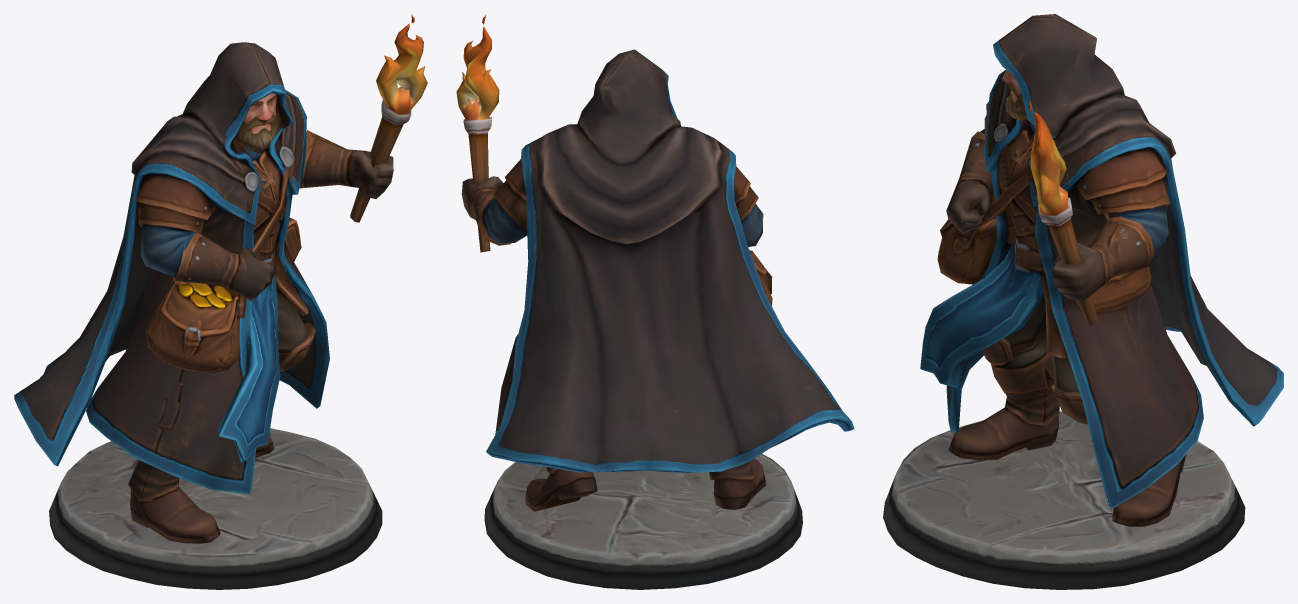
The model's file is hero7.glb.
3 views of the same model, side by side, from view 1: azimuth 30°, elevation 25°; view 2: azimuth 150°, elevation 25°; view 3: azimuth 270°, elevation 25° (orthographic). The views are drawn at different scales.
Visible parts, largest first — view 1: geometry_0; view 2: geometry_0; view 3: geometry_0.
Part boxes in pixels (x1,y1,x2,y2): geometry_0: (14, 14, 427, 589); geometry_0: (456, 14, 854, 589); geometry_0: (883, 14, 1283, 589).
Bounding box in the file's own units: 0.8423 × 0.9536 × 0.6782.
Materials: 1 (1 with a texture image).
